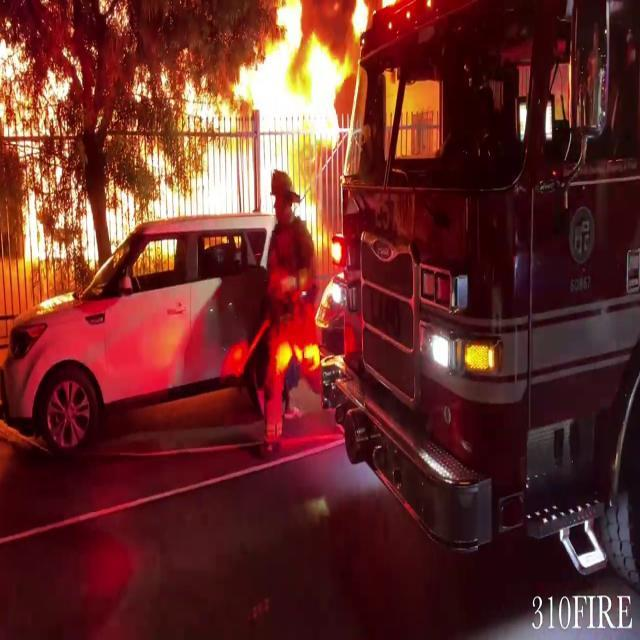Fire: (1, 0, 346, 274)
